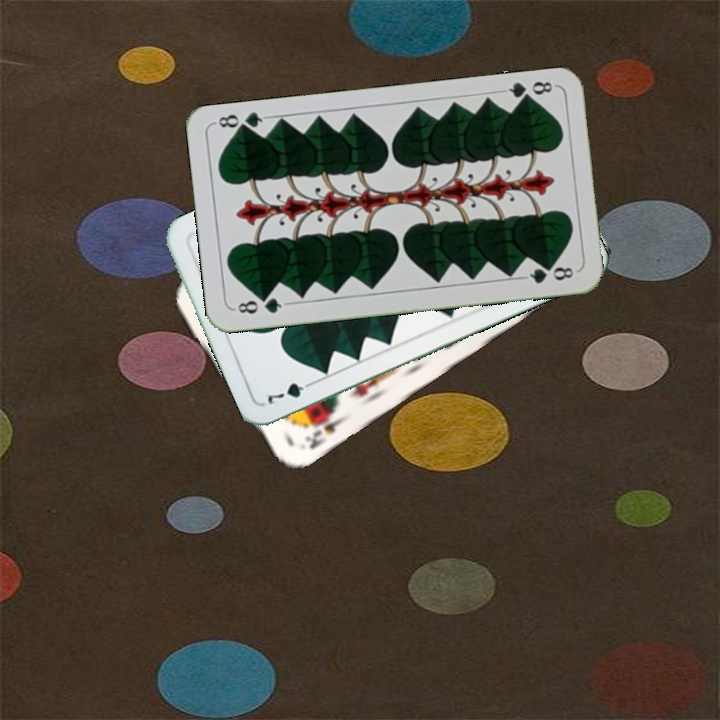G7: (263, 376, 319, 407)
G8: (498, 77, 555, 106), (230, 292, 289, 317)
SK: (300, 405, 347, 452)
